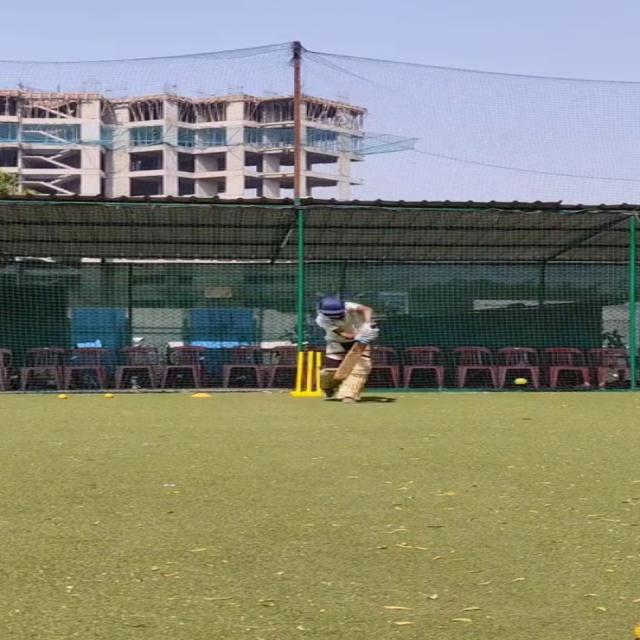ball: (511, 377, 527, 385), (54, 393, 68, 400), (101, 392, 114, 399)
stump: (292, 351, 324, 397)
